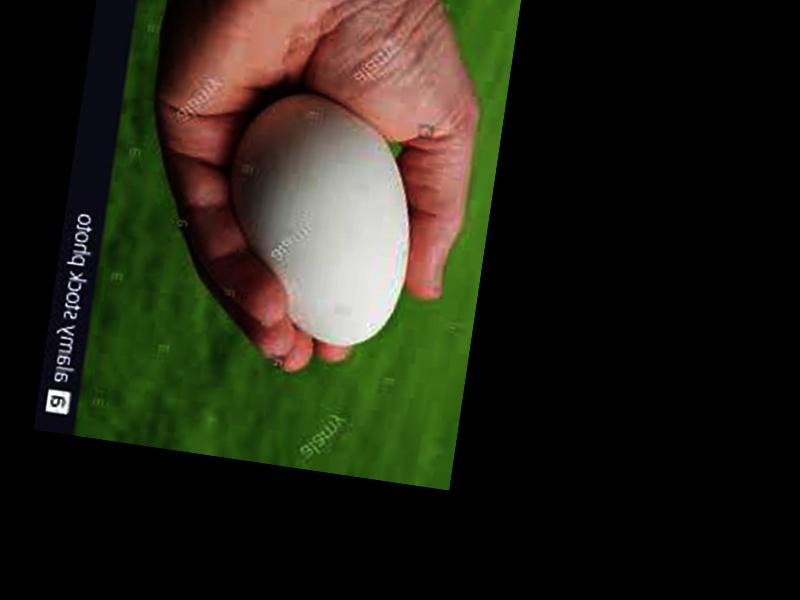Eggs: (207, 79, 432, 352)
